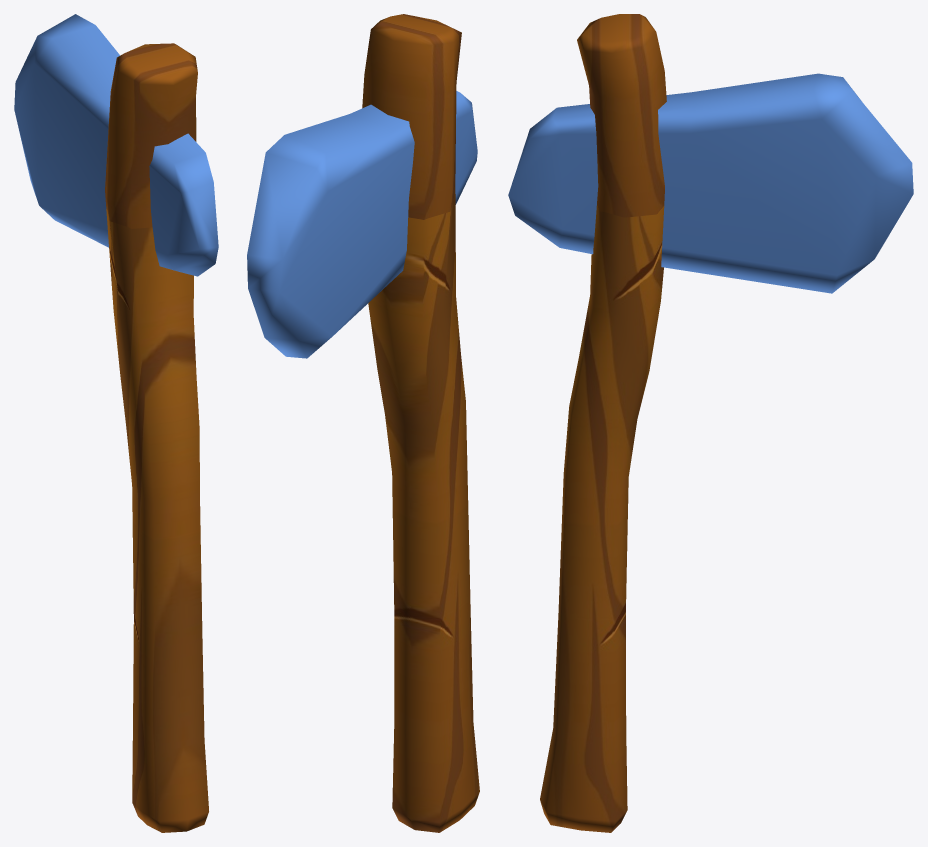
Rendered from rare_axe.fbx.
3 renders of one model, left to right at view 1: azimuth 30°, elevation 25°; view 2: azimuth 150°, elevation 25°; view 3: azimuth 270°, elevation 25°, orthographic. The views are drawn at different scales.
Visible parts, largest first — view 1: bou__mTool.001; view 2: bou__mTool.001; view 3: bou__mTool.001.
Part boxes in pixels (x1,y1,x2,y2): bou__mTool.001: [14, 14, 218, 832]; bou__mTool.001: [247, 14, 479, 832]; bou__mTool.001: [508, 14, 913, 832].
Bounding box in the file's own units: 2.43 × 20.98 × 9.66.
2 materials, 1 textured.
